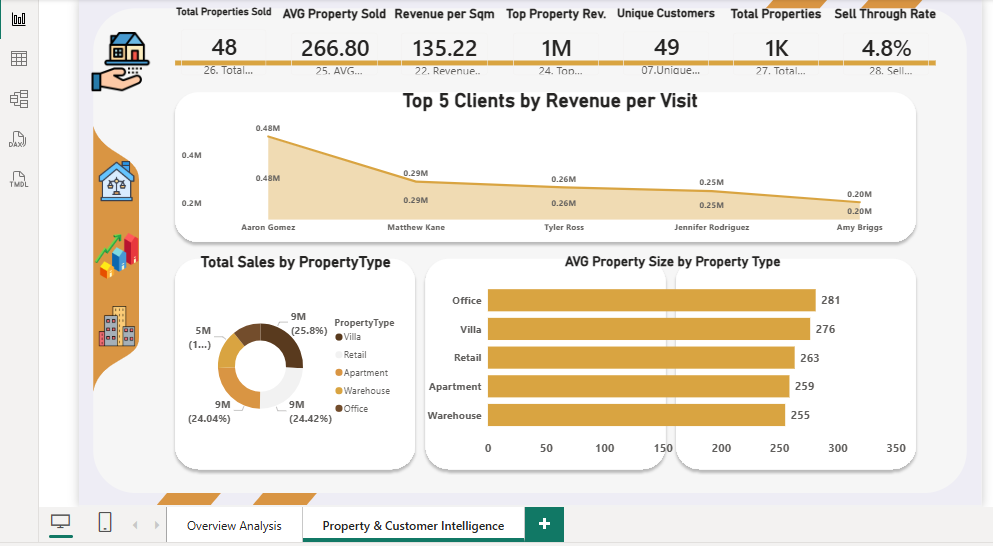

What the dashboard file says about the page in this screenshot:
{"tool":"powerbi","page":{"name":"Property & Customer Intelligence ","canvas":[1280,720],"ordinal":1},"visuals":[{"type":"cardVisual","title":"Total Properties Sold","fields":{"Data":["_Key Measures.26. Total Properties Sold"]},"box":[127.4,10.4,155.6,115.6],"z":0},{"type":"image","box":[21.3,229.6,63.8,56.7],"z":0,"group":"g1"},{"type":"cardVisual","title":"AVG Property Sold","fields":{"Data":["_Key Measures.25. AVG Property Size Sold"]},"box":[283,10.4,157,115.6],"z":1000},{"type":"image","box":[4.3,435.1,99.2,56.7],"z":1000,"group":"g1"},{"type":"cardVisual","title":"Revenue per Sqm","fields":{"Data":["_Key Measures.22. Revenue per sqm"]},"box":[439.8,10.4,157.8,115.6],"z":2000},{"type":"image","box":[14.2,331.6,78,65.2],"z":2000,"group":"g1"},{"type":"cardVisual","title":"Unique Customers","fields":{"Data":["_Key Measures.07.Unique Customer"]},"box":[753.7,10.4,156.2,115.6],"z":3000},{"type":"cardVisual","title":"Top Property Rev.","fields":{"Data":["_Key Measures.24. Top Property Revenue"]},"box":[597.5,10.4,156.2,115.6],"z":4000},{"type":"cardVisual","title":"Total Properties","fields":{"Data":["_Key Measures.27. Total Properties"]},"box":[909.9,10.4,156.2,115.6],"z":5000},{"type":"cardVisual","title":"Sell Through Rate","fields":{"Data":["_Key Measures.28. Sell Through Rate %"]},"box":[1066,10.4,156.2,115.6],"z":6000},{"type":"donutChart","title":"Total Sales by PropertyType","fields":{"Category":["Dim - Properties.PropertyType"],"Y":["_Key Measures.01.Total Sales"]},"box":[146.8,359.4,319.6,296.7],"z":7000},{"type":"clusteredBarChart","title":" AVG Property Size by Property Type","fields":{"Category":["Dim - Properties.PropertyType"],"Y":["_Key Measures.25. AVG Property Size Sold"]},"box":[487.8,359.4,708.1,296.7],"z":8000},{"type":"stackedAreaChart","title":"Top 5 Clients by Revenue per Visit  ","fields":{"Category":["Dim - Clients.Full Name "],"Y":["_Key Measures.21. Revenue Per Visit"]},"box":[140.7,126.9,1055.2,214.1],"z":9000},{"type":"group","id":"g1","title":"Group 2","box":[4.3,229.6,99.2,262.2],"z":10000},{"type":"image","box":[0,46.8,117.6,83.6],"z":11000}]}

Visuals, with their boxes on the page's 1280x720 design canvas (x1, y1, x2, y2). These are canvas units, not pixel positions in the 993x546 screenshot, which may show the page scaled, cropped or inside an application window:
"Total Properties Sold" cardVisual: [127, 10, 283, 126]
image: [21, 230, 85, 286]
"AVG Property Sold" cardVisual: [283, 10, 440, 126]
image: [4, 435, 104, 492]
"Revenue per Sqm" cardVisual: [440, 10, 598, 126]
image: [14, 332, 92, 397]
"Unique Customers" cardVisual: [754, 10, 910, 126]
"Top Property Rev." cardVisual: [598, 10, 754, 126]
"Total Properties" cardVisual: [910, 10, 1066, 126]
"Sell Through Rate" cardVisual: [1066, 10, 1222, 126]
"Total Sales by PropertyType" donutChart: [147, 359, 466, 656]
" AVG Property Size by Property Type" clusteredBarChart: [488, 359, 1196, 656]
"Top 5 Clients by Revenue per Visit  " stackedAreaChart: [141, 127, 1196, 341]
"Group 2" group: [4, 230, 104, 492]
image: [0, 47, 118, 130]
